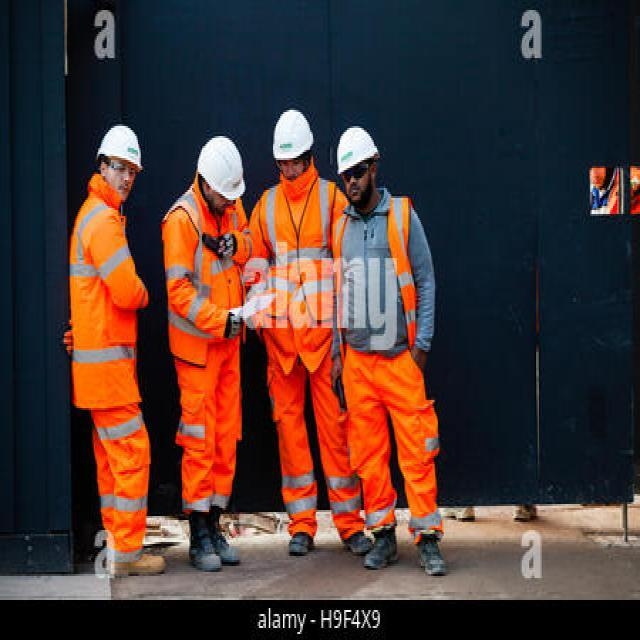reflective_jacket: (67, 198, 145, 422), (332, 190, 426, 372), (257, 172, 341, 360), (163, 192, 248, 372)
safety_helmet: (193, 128, 245, 204), (331, 118, 382, 178), (269, 104, 316, 164), (95, 118, 146, 172)
